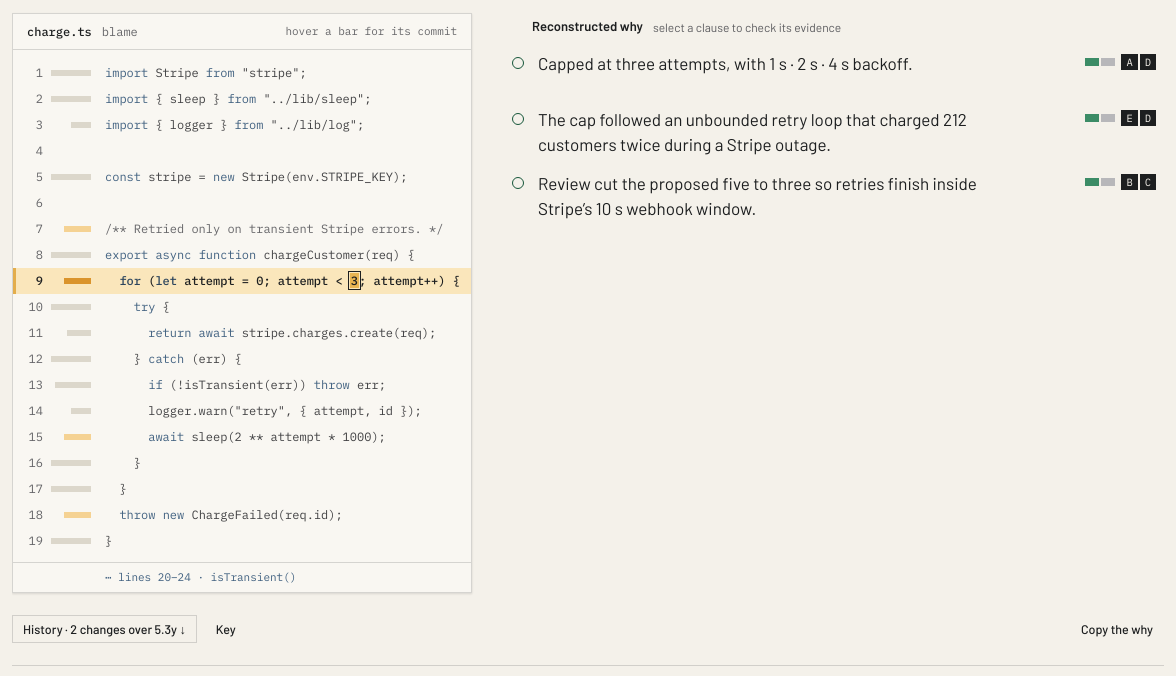
Scenario: LineInvestigation — evidence in place › shows the source in the history, opened, without closing the answer
Click the 4th button.
click(834, 131)  # box [504,101,1164,161]
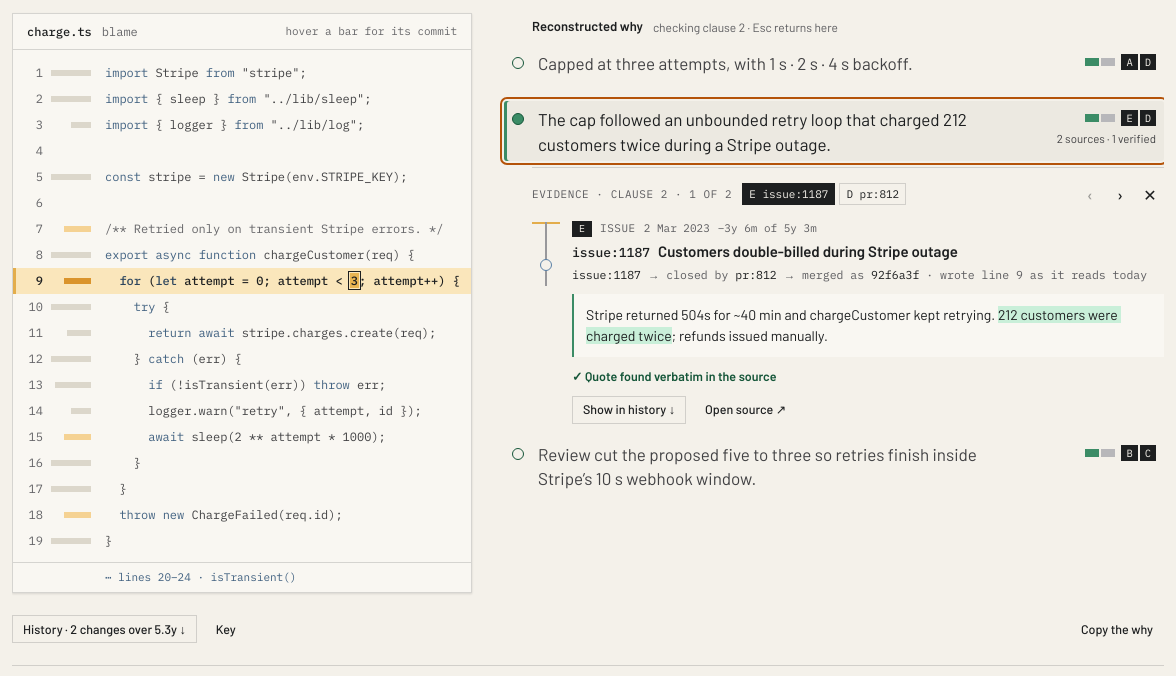
Click the button "Show in history ↓".
click(629, 410)  # box [572,396,686,424]
(page scrolled)
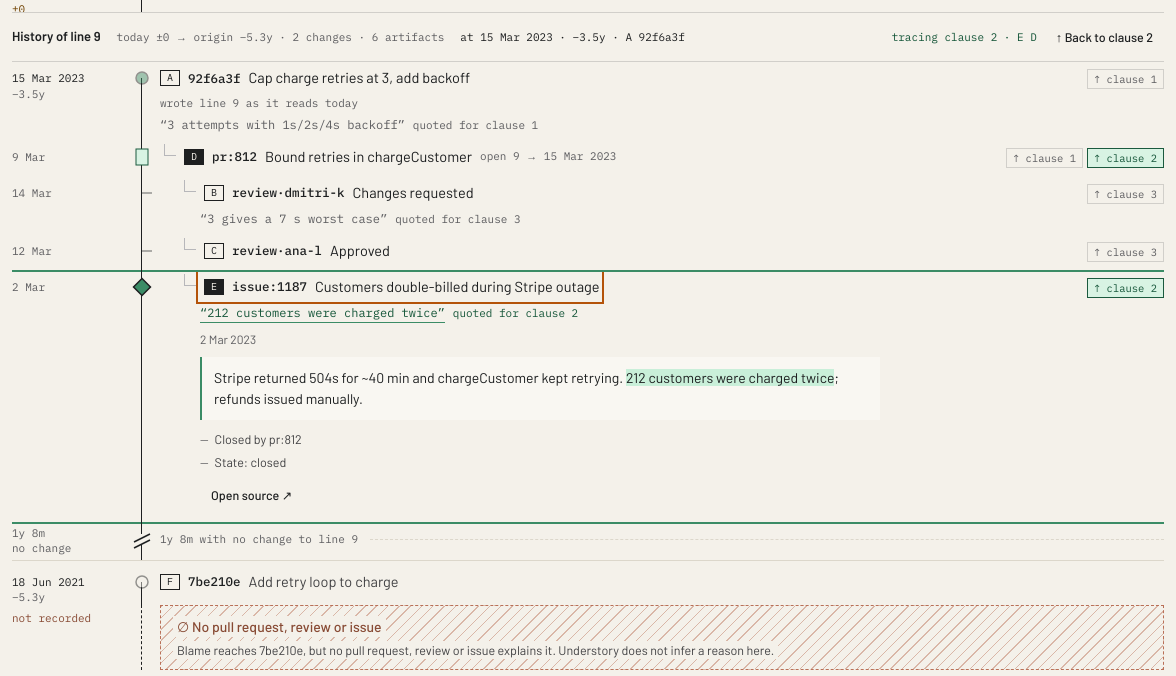
Result: the button "E issue:1187 Customers double-billed during Stripe outage" is expanded at [200,274,600,300]
